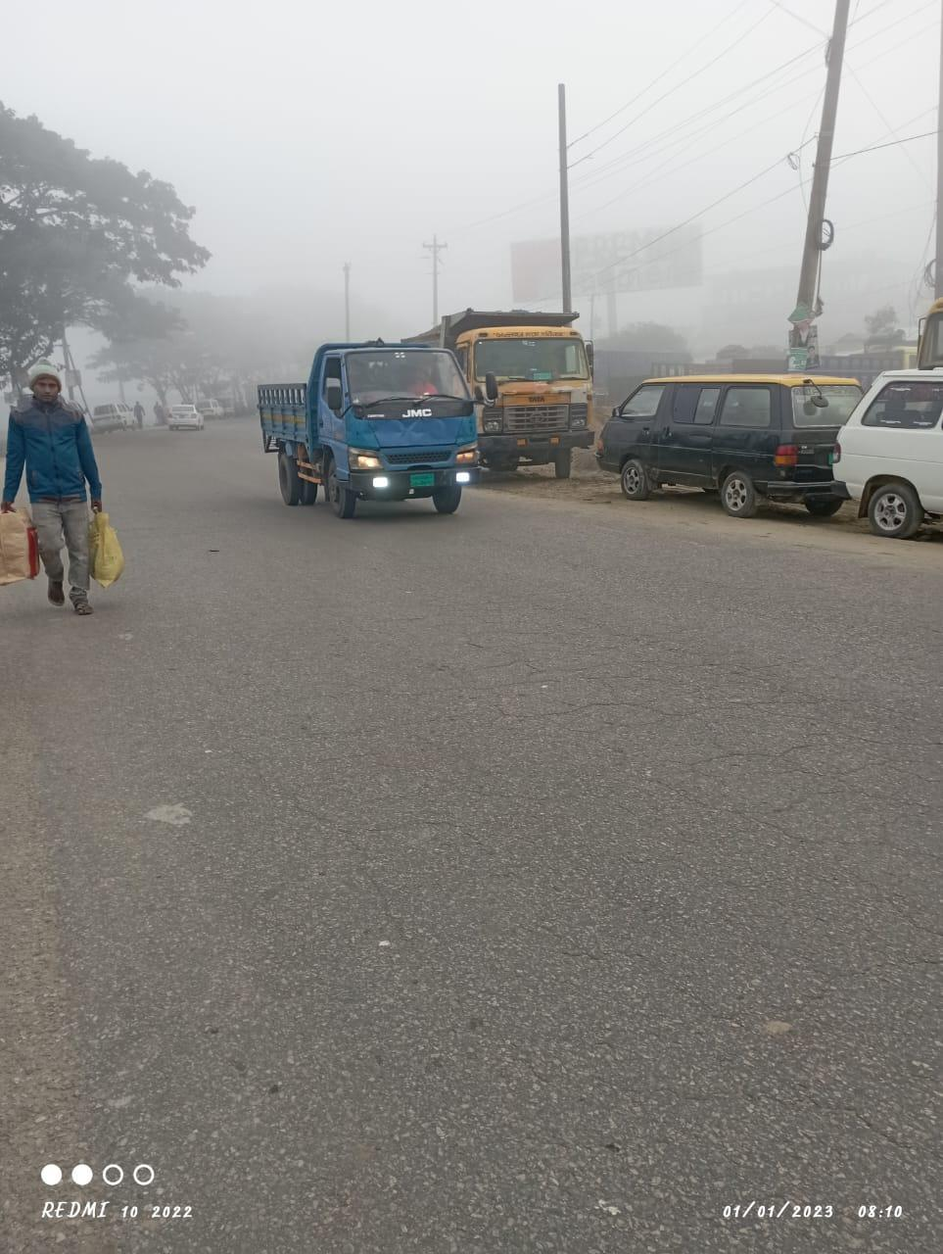Car: (588, 363, 821, 525), (827, 365, 943, 544), (83, 399, 142, 436), (153, 400, 210, 435)
Truck: (243, 333, 492, 533), (444, 302, 608, 485)
